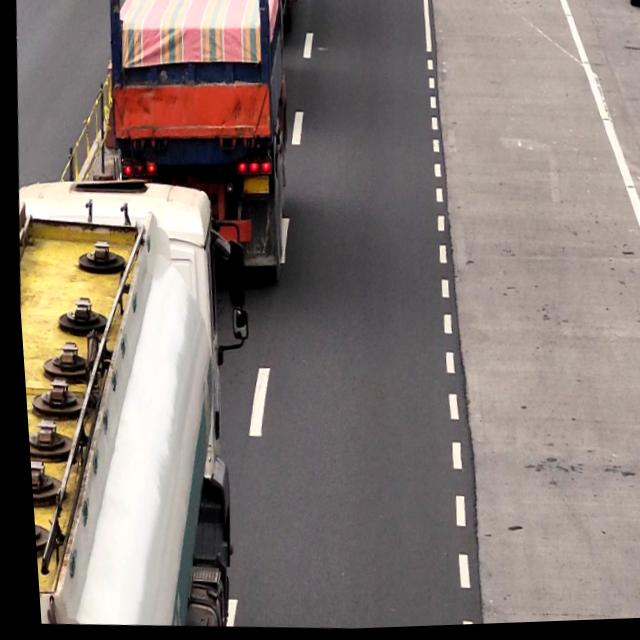Truck: (9, 171, 231, 632), (94, 0, 295, 277)
